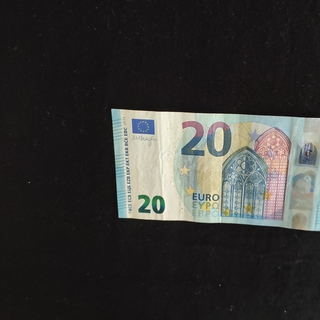20EUROFront: (109, 107, 320, 231)
